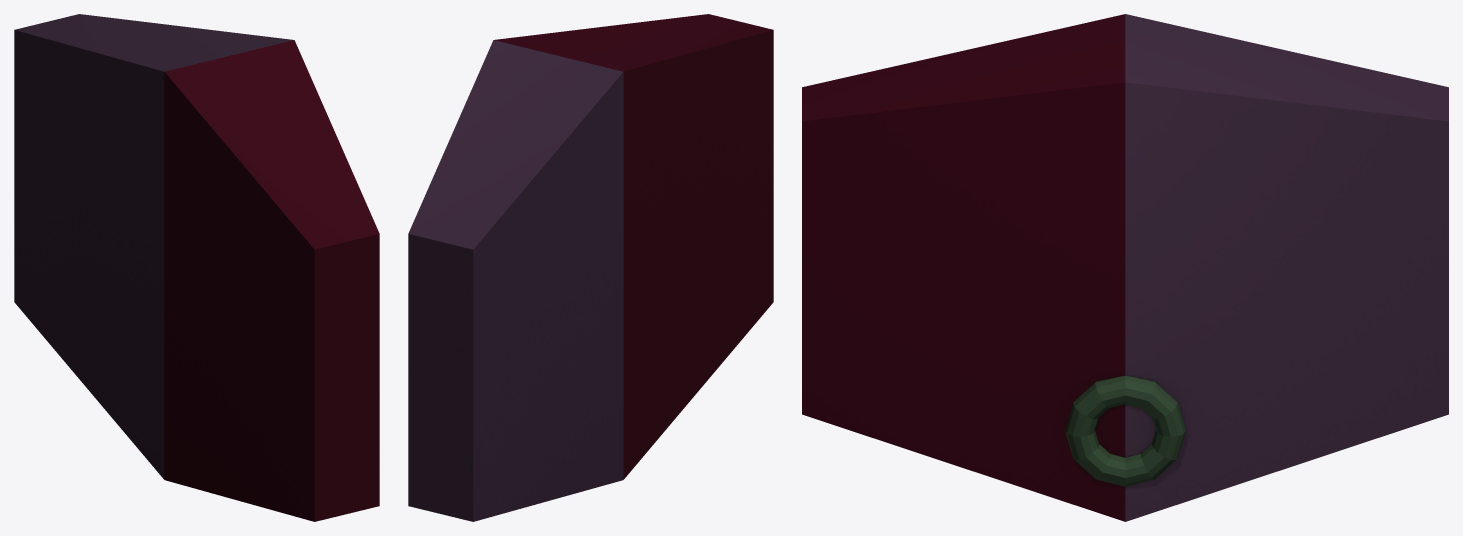
Rendered from thing.obj.
3 views of the same model, side by side, from view 1: azimuth 30°, elevation 25°; view 2: azimuth 150°, elevation 25°; view 3: azimuth 270°, elevation 25° (orthographic). The views are drawn at different scales.
Parts seen in each view (by area): view 1: Object.2, Object.3; view 2: Object.3, Object.2; view 3: Object.3, Object.2, Object.1.
Boxes of the visible parts, x1,y1,x2,y2 form: Object.2: [164, 40, 379, 521]; Object.3: [14, 14, 293, 479]; Object.3: [408, 40, 623, 521]; Object.2: [494, 14, 773, 479]; Object.3: [1125, 14, 1448, 521]; Object.2: [802, 14, 1125, 521]; Object.1: [1065, 375, 1185, 486].
Size of the model in its own units: 1.14 by 3.12 by 4.15.
